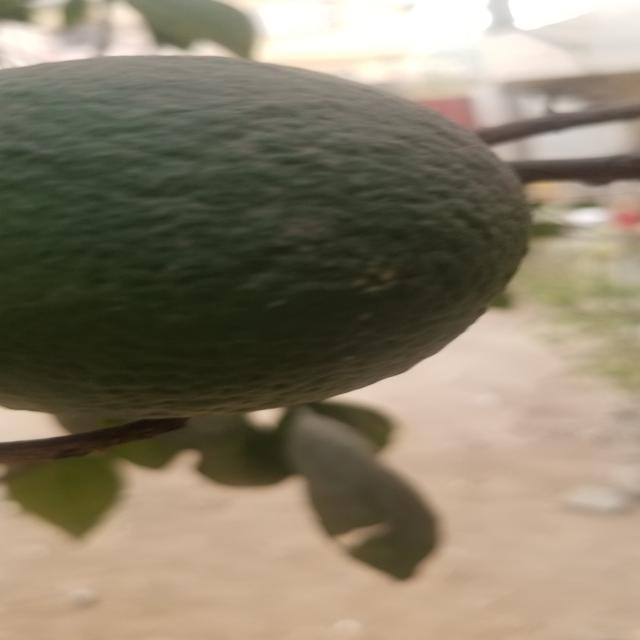agrume: (0, 57, 536, 411)
